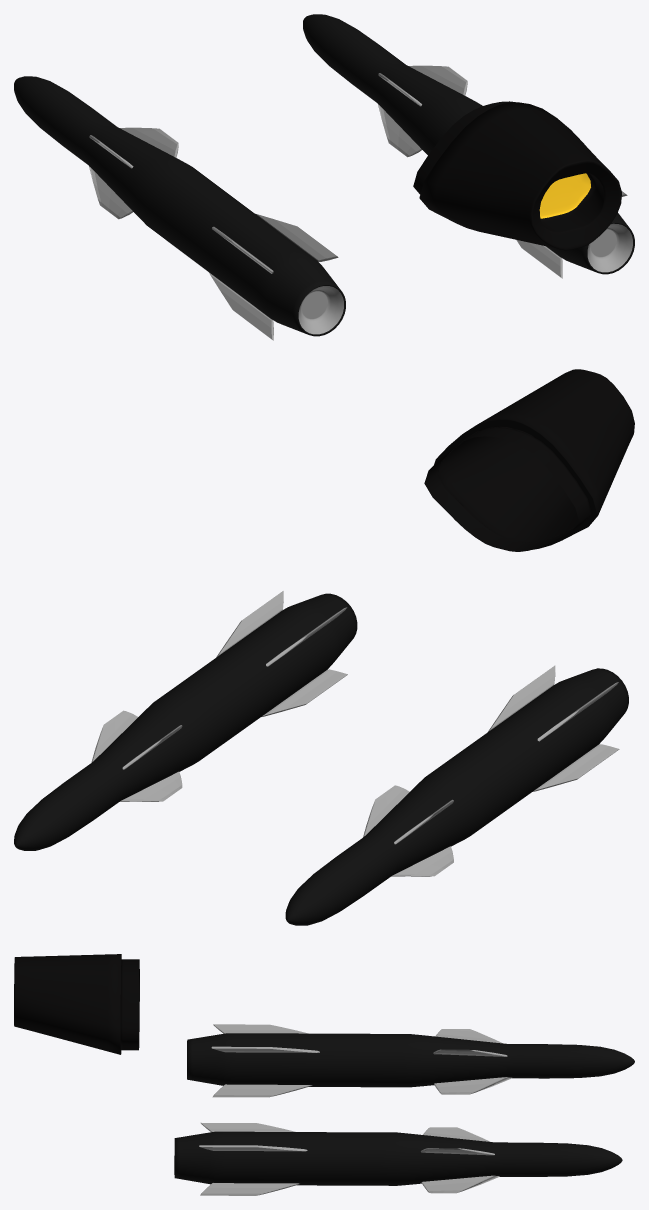
Rendered from skyfighter fbx.fbx.
3 renders of one model, top to bottom at view 1: azimuth 30°, elevation 25°; view 2: azimuth 150°, elevation 25°; view 3: azimuth 270°, elevation 25°, orthographic. The views are drawn at different scales.
Visible parts, largest first — view 1: Circle_003, Cube_003, Circle_005; view 2: Circle_003, Circle_005, Cube_003; view 3: Circle_003, Circle_005, Cube_003.
Part boxes in pixels (x1,y1,x2,y2): Circle_003: (14, 76, 345, 340); Cube_003: (413, 101, 621, 250); Circle_005: (303, 14, 634, 278); Circle_003: (285, 665, 628, 925); Circle_005: (14, 591, 357, 850); Cube_003: (424, 369, 634, 551); Circle_003: (187, 1024, 634, 1097); Circle_005: (174, 1122, 622, 1195); Cube_003: (14, 954, 139, 1054).
Bounding box in the file's own units: 1.47 × 0.9842 × 3.17.
